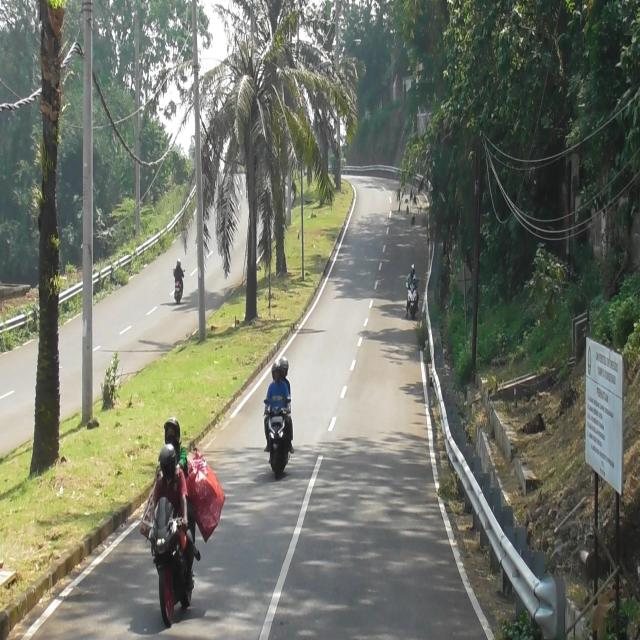motorcycle: (150, 496, 198, 627), (261, 402, 296, 474), (406, 285, 419, 317), (173, 280, 183, 304)
person: (148, 450, 189, 536), (158, 418, 192, 480), (265, 362, 291, 414), (276, 358, 291, 397), (406, 262, 419, 292), (173, 258, 185, 284)
rider_region: (146, 418, 198, 628), (263, 357, 295, 477), (404, 259, 421, 318), (172, 257, 186, 302)
